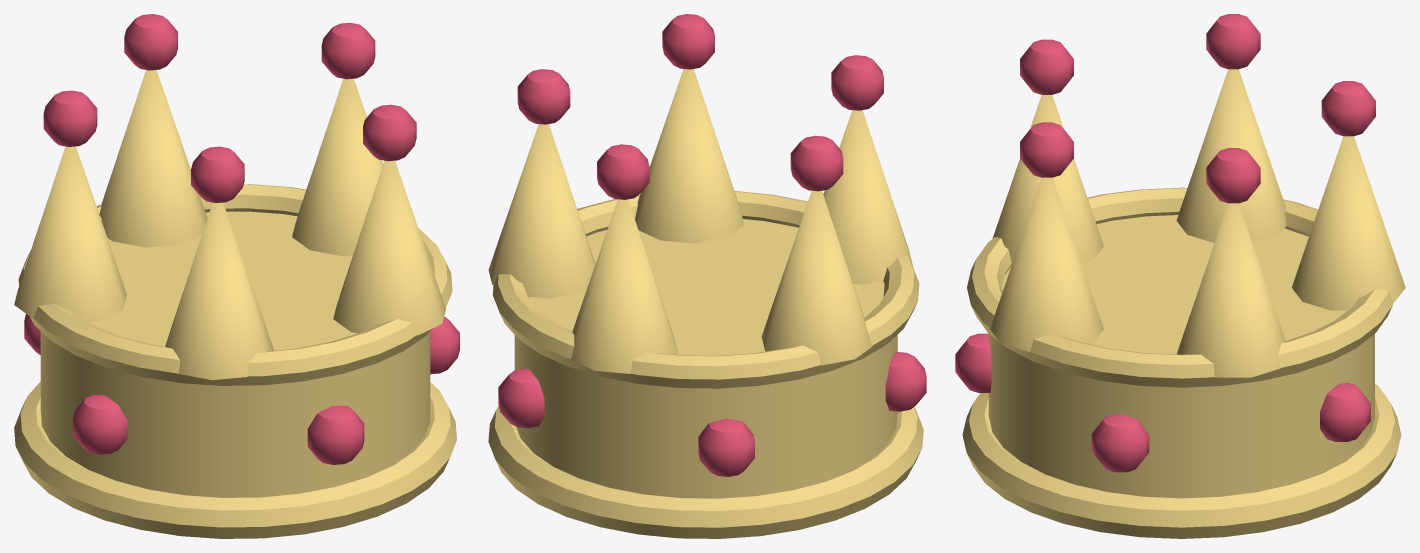
The model's file is Crown.fbx.
3 renders of one model, left to right at view 1: azimuth 30°, elevation 25°; view 2: azimuth 150°, elevation 25°; view 3: azimuth 270°, elevation 25°, orthographic.
Visible parts, largest first — view 1: Body.012, Trim.012; view 2: Body.012, Trim.012; view 3: Body.012, Trim.012.
Boxes of the visible parts, box(x1,y1,x2,y2) form: Body.012: box(14, 70, 456, 538); Trim.012: box(24, 14, 459, 464); Body.012: box(488, 69, 923, 538); Trim.012: box(498, 14, 926, 476); Body.012: box(962, 69, 1405, 538); Trim.012: box(955, 14, 1375, 472).
Size of the model in its own units: 1 by 0.935 by 1.03.
